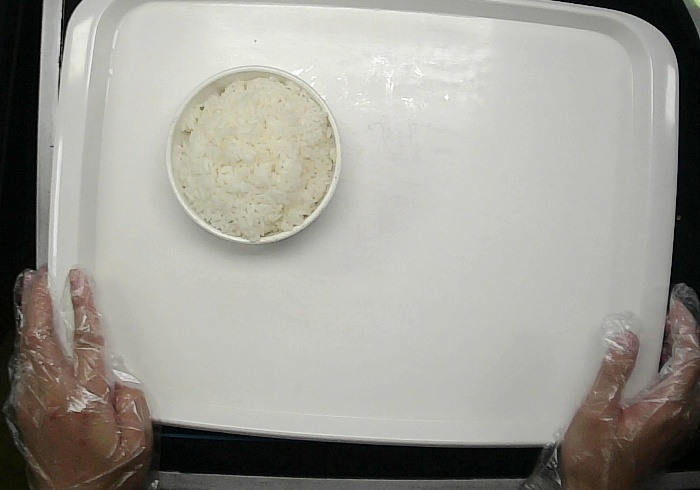HZYJPL-Fan_Wan: (166, 65, 341, 245)
